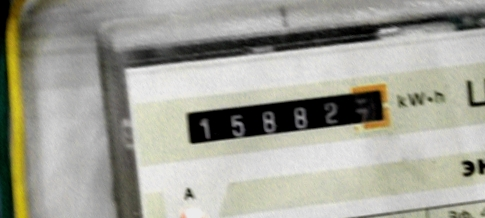1: (197, 115, 214, 141)
2: (322, 98, 341, 125)
5: (228, 111, 246, 138)
7: (354, 105, 369, 122)
8: (290, 102, 309, 129), (259, 108, 278, 133)
screen: (171, 74, 402, 159)
